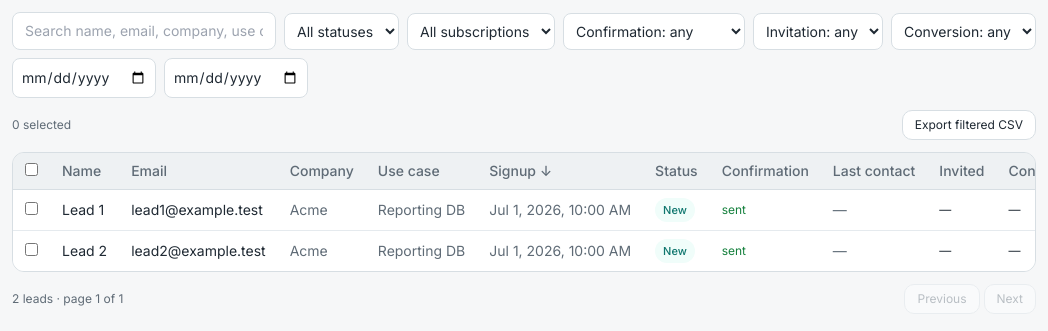
Test: leads multi-select shows the bulk-disabled hint
The image size is (1048, 331).
Expected: the text "lead1@example.test" is shown, [119,190,278,230]
Step 1. Click the checkbox named "Select visible page" → {"x": 32, "y": 170}, box [25,163,38,176]
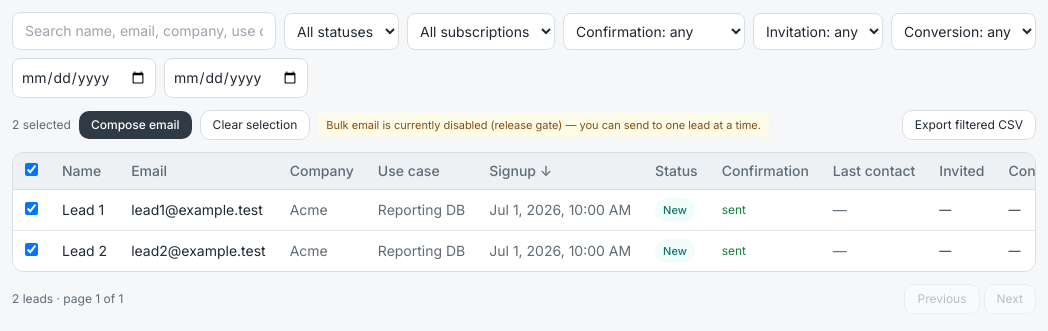
Expected: the text with test id "bulk-disabled-hint" is shown, [318,113,769,137]
